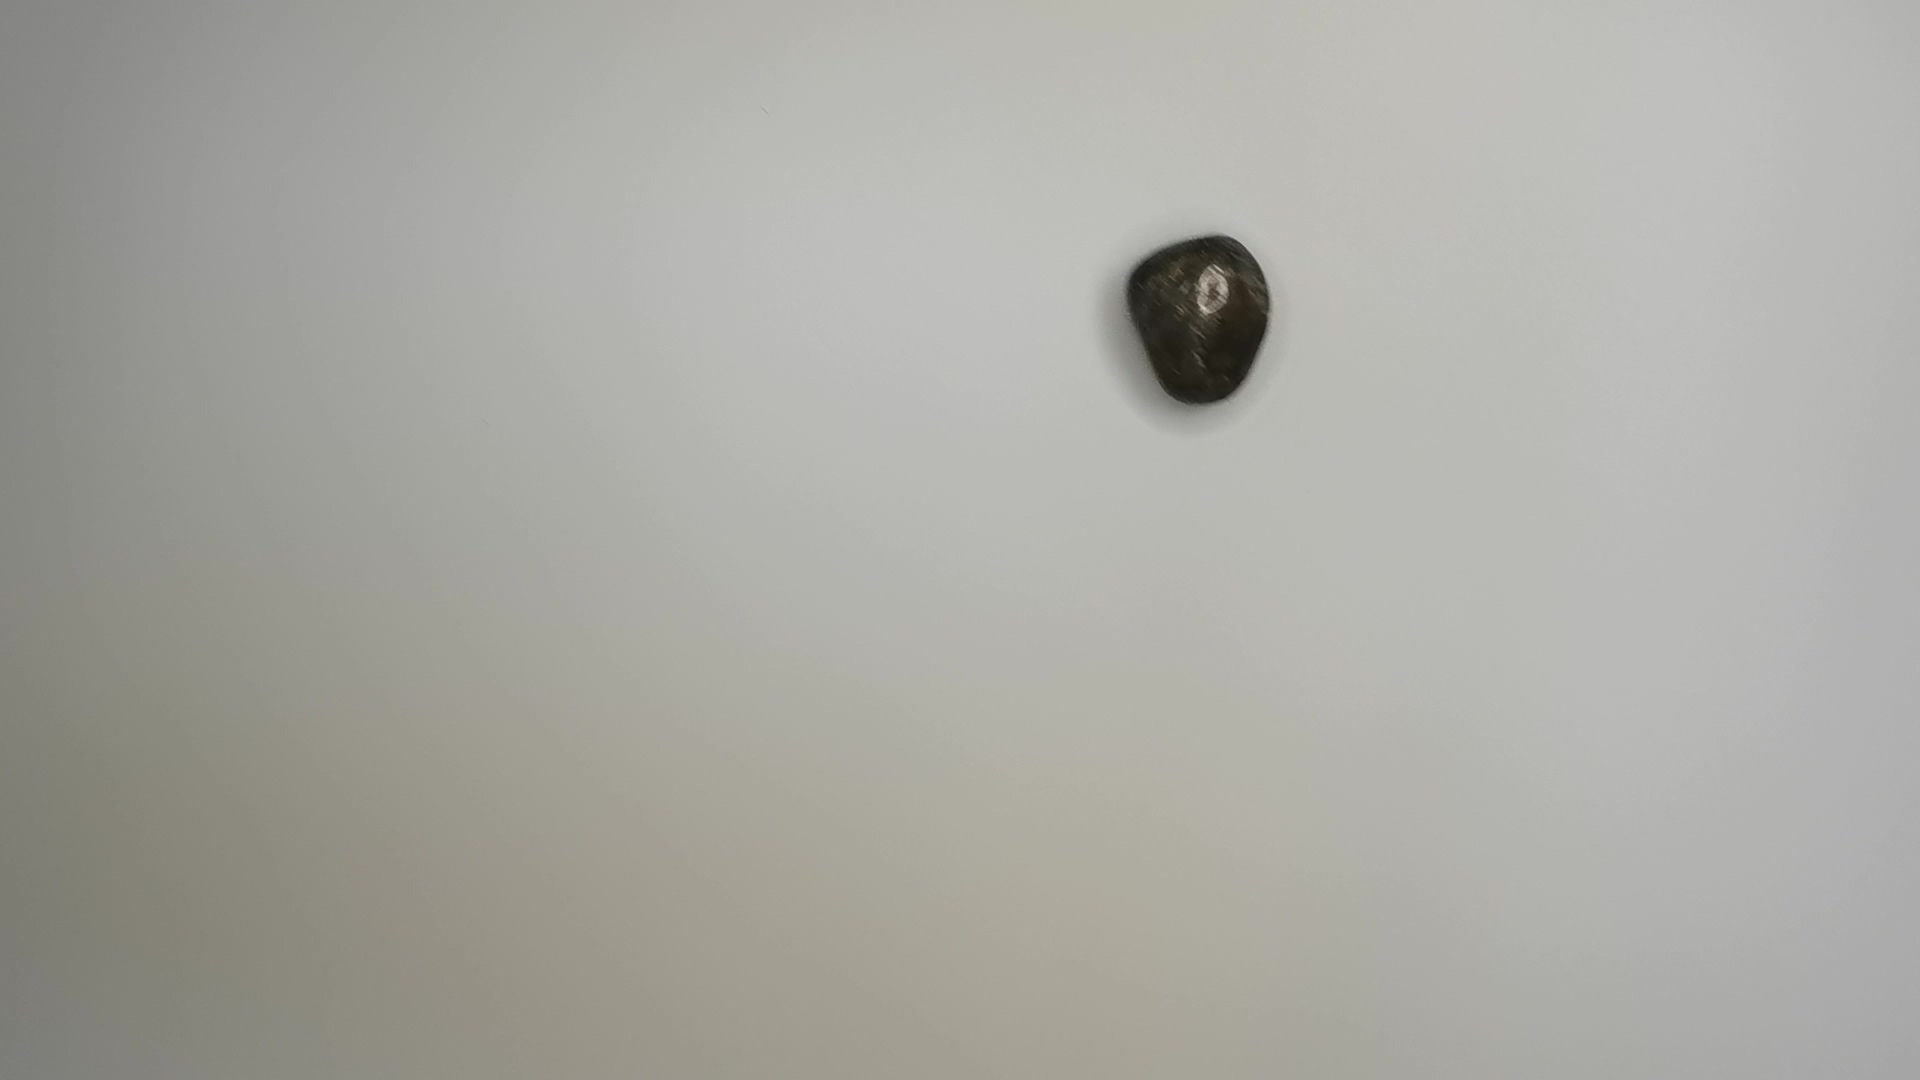ceramic: (1117, 225, 1288, 415)
